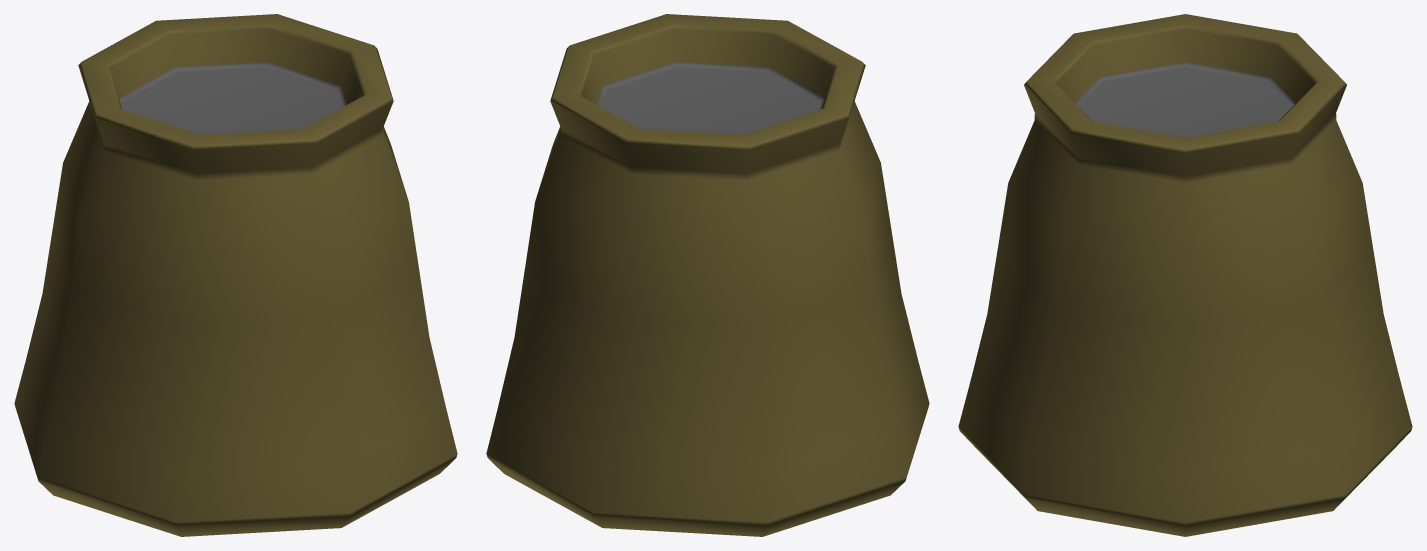
File: Vase_2.fbx
3 views of the same model, side by side, from view 1: azimuth 30°, elevation 25°; view 2: azimuth 150°, elevation 25°; view 3: azimuth 270°, elevation 25° (orthographic).
Visible parts, largest first — view 1: pCylinder1; view 2: pCylinder1; view 3: pCylinder1.
Part boxes in pixels (x1,y1,x2,y2): pCylinder1: [14, 14, 457, 536]; pCylinder1: [486, 14, 929, 536]; pCylinder1: [958, 14, 1412, 536].
Size of the model in its own units: 48.38 by 43.23 by 48.38.
